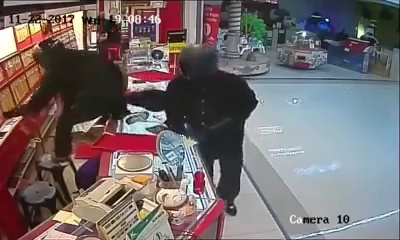helmet: (174, 41, 221, 81), (24, 33, 61, 68)
